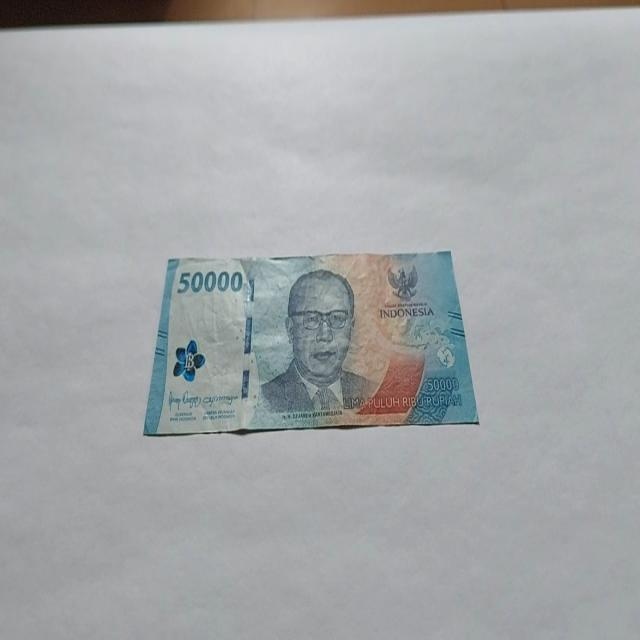lima puluh ribu rupiah: (142, 249, 480, 437), (254, 266, 376, 418)
